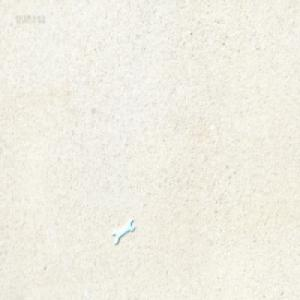Wrench: (112, 218, 134, 246)
